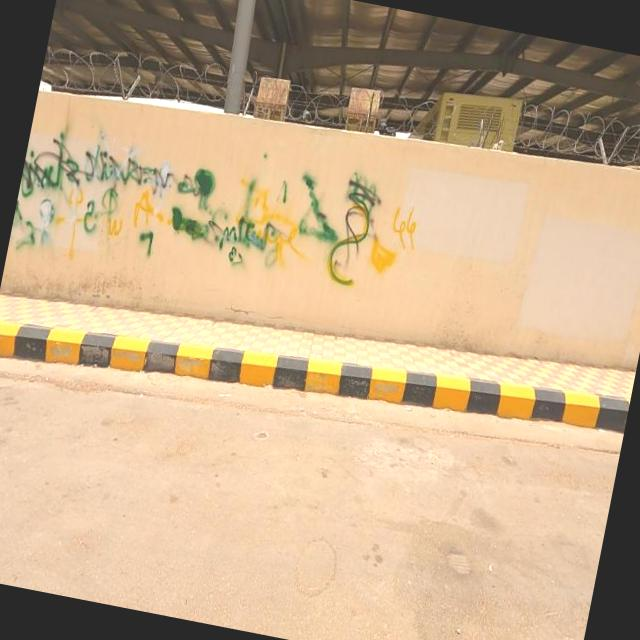debris: (81, 49, 558, 408), (0, 35, 321, 367)
